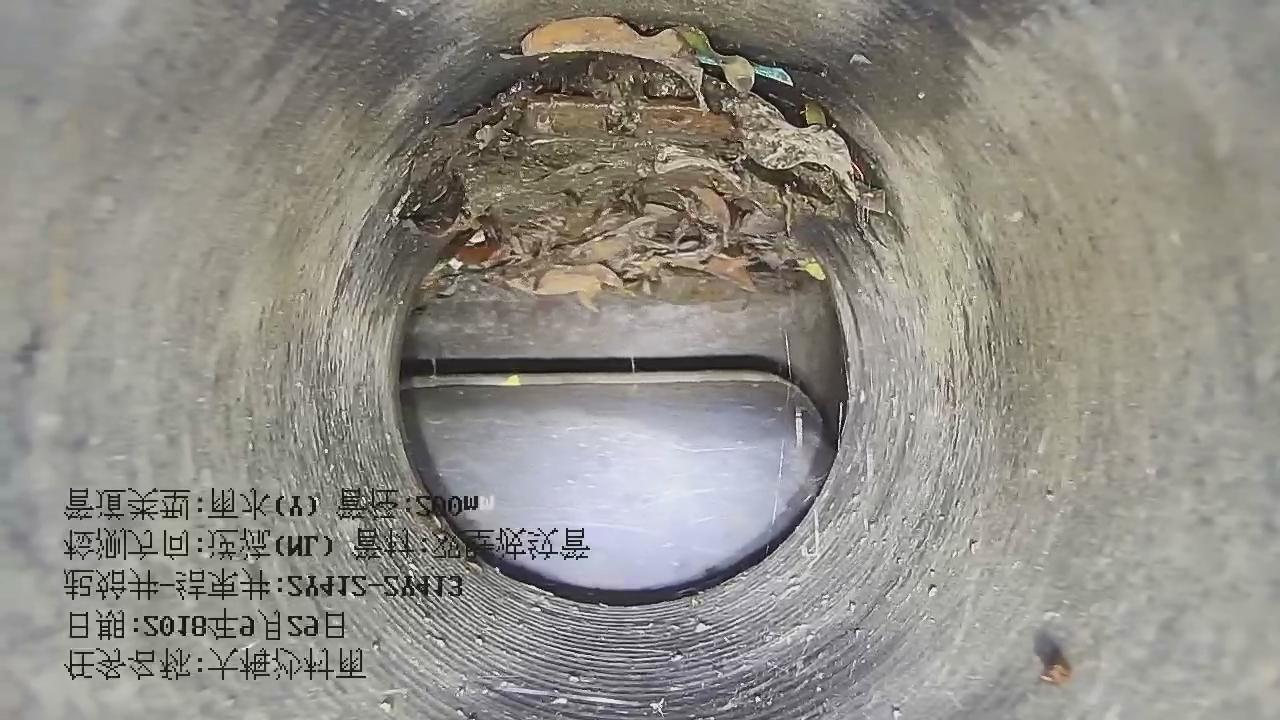CJ: (392, 17, 885, 307)
